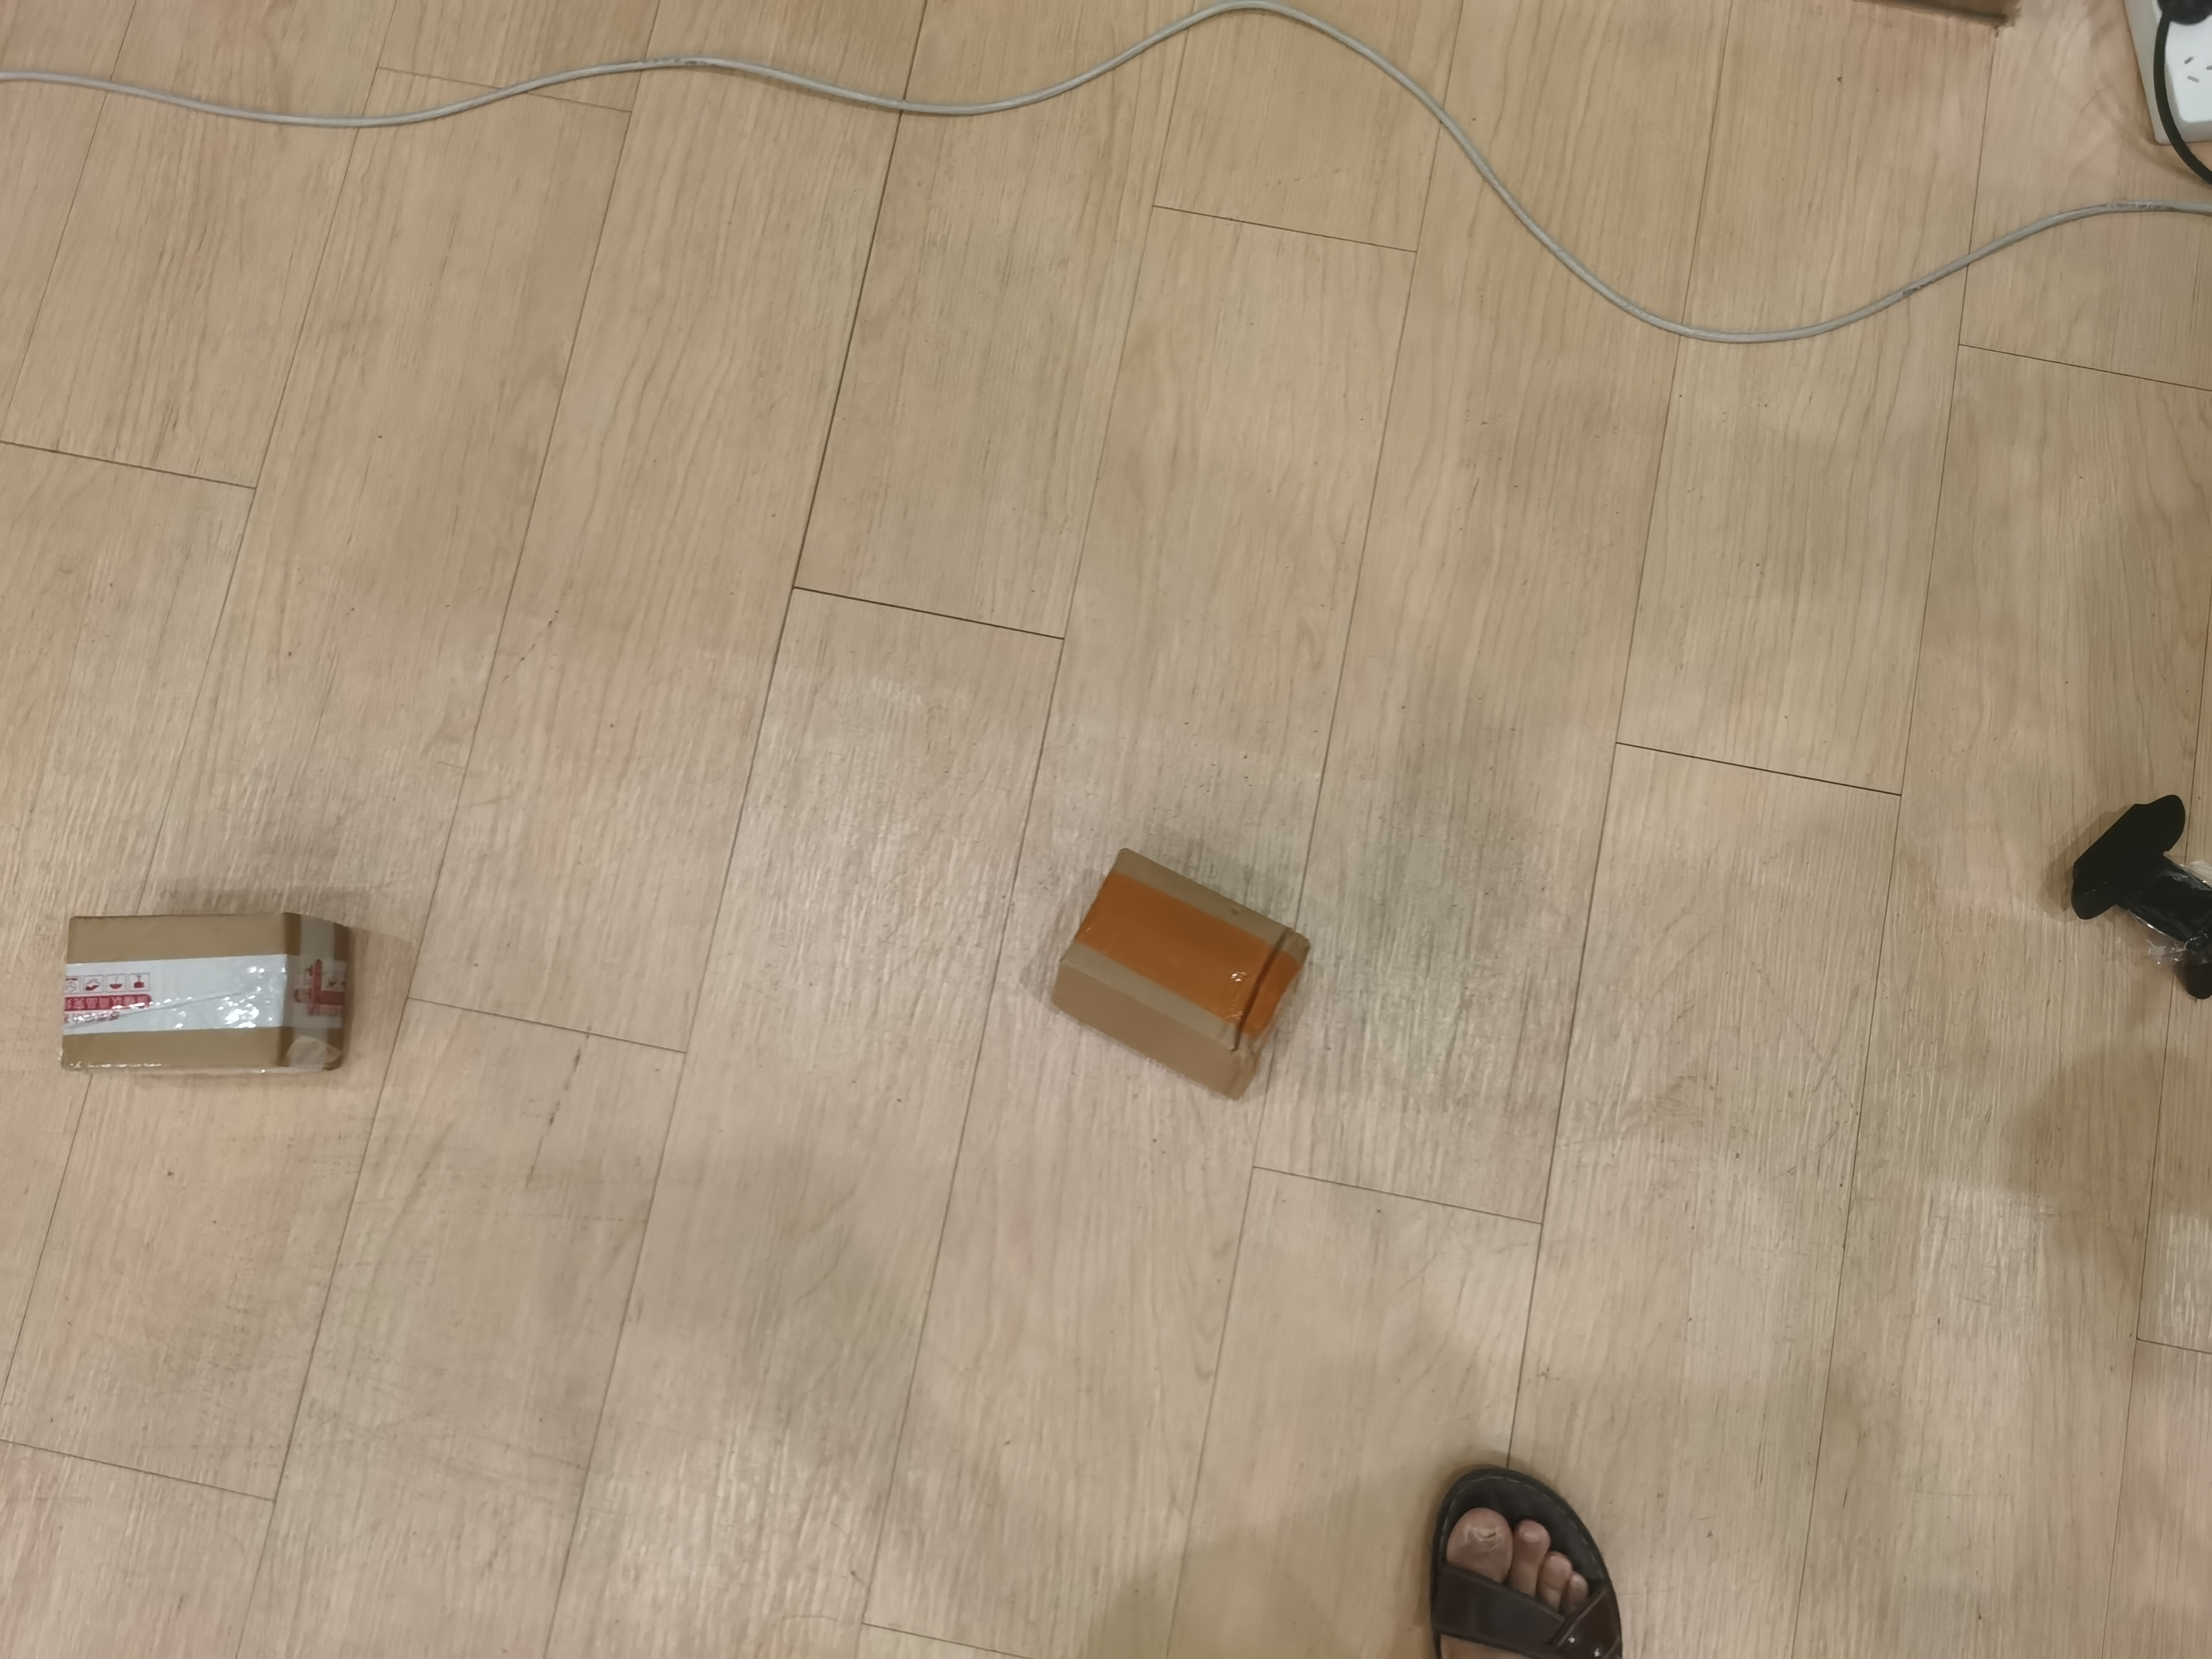box: (1026, 842, 1322, 1101), (38, 899, 388, 1082)
